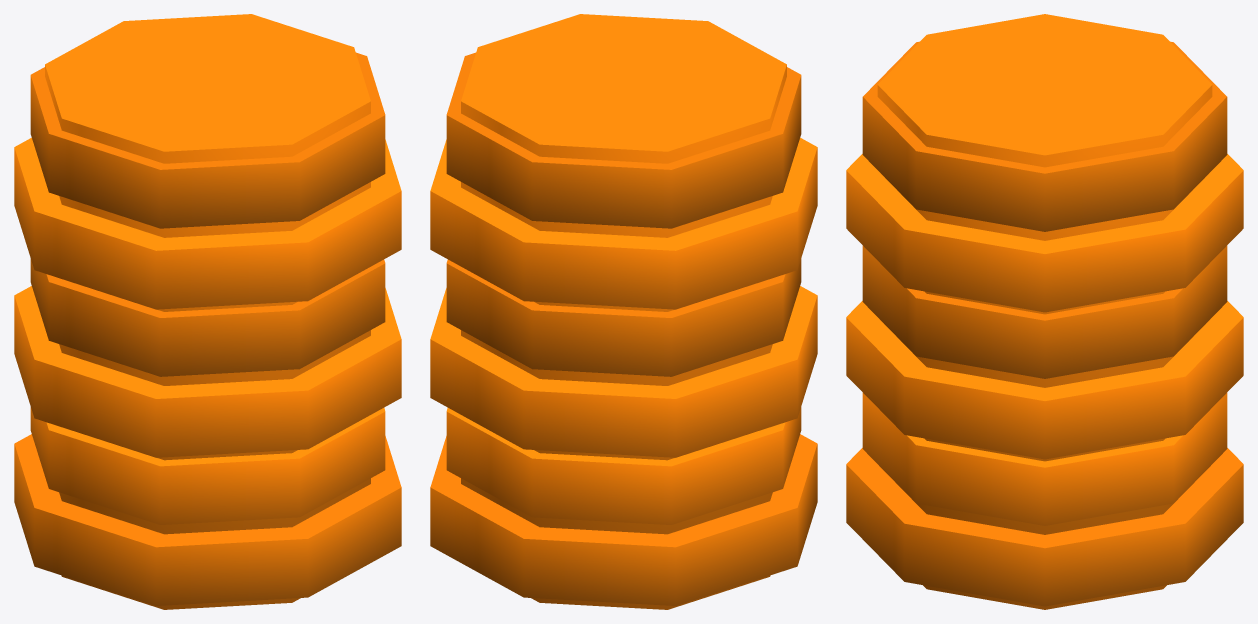
File: bronze_grip_095.glb
3 views of the same model, side by side, from view 1: azimuth 30°, elevation 25°; view 2: azimuth 150°, elevation 25°; view 3: azimuth 270°, elevation 25° (orthographic).
Visible parts, largest first — view 1: bronze_grip_095; view 2: bronze_grip_095; view 3: bronze_grip_095.
Boxes of the visible parts, x1,y1,x2,y2 form: bronze_grip_095: (14, 14, 401, 609); bronze_grip_095: (430, 14, 817, 609); bronze_grip_095: (846, 14, 1243, 609).
Size of the model in its own units: 2.38 by 3 by 2.38.
Materials: 1 (1 with a texture image).
